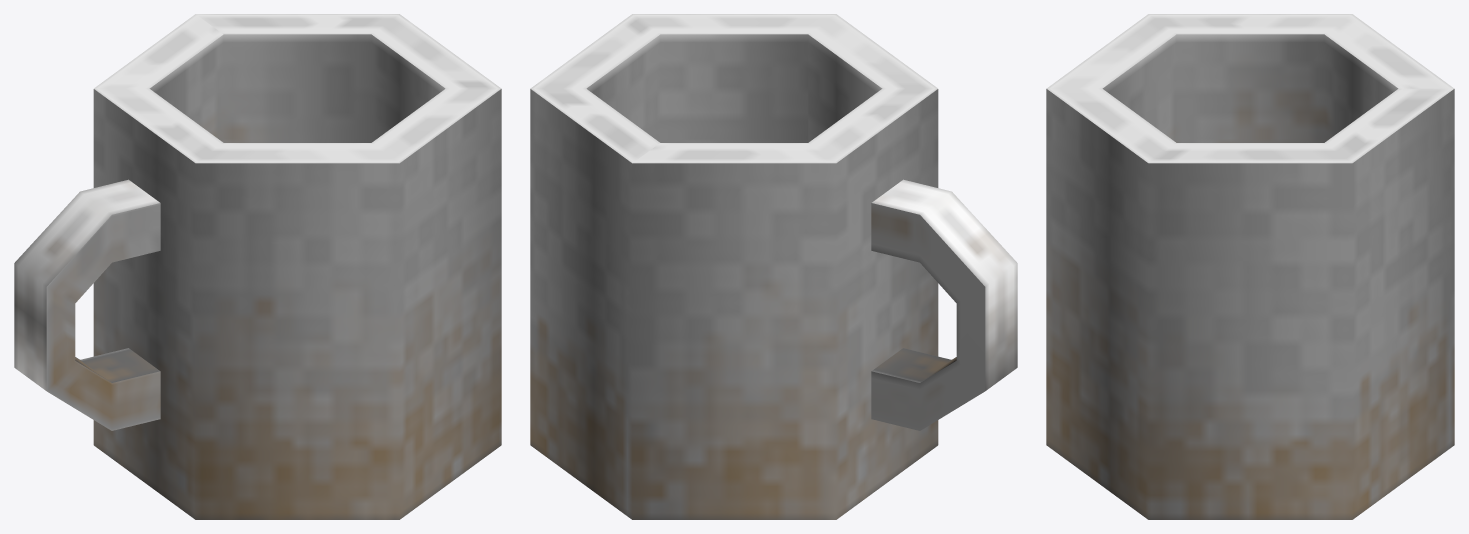
The model's file is taza.fbx.
3 views of the same model, side by side, from view 1: azimuth 30°, elevation 25°; view 2: azimuth 150°, elevation 25°; view 3: azimuth 270°, elevation 25° (orthographic).
Visible parts, largest first — view 1: taza; view 2: taza; view 3: taza.
Boxes of the visible parts, bbox=[...] form: taza: bbox=[14, 14, 501, 519]; taza: bbox=[530, 14, 1017, 519]; taza: bbox=[1046, 14, 1454, 519].
Size of the model in its own units: 17.45 by 14.16 by 14.68.
Materials: 1 (1 with a texture image).
